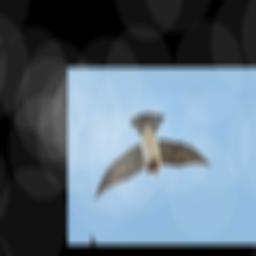Swallow: (93, 103, 217, 222)
